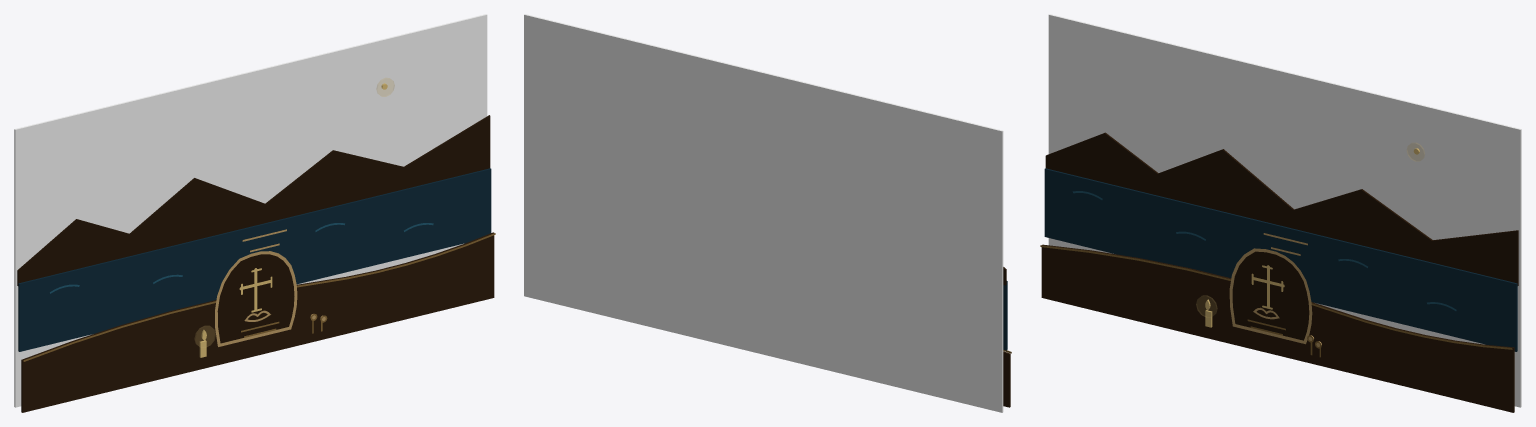
The model's file is loc-kamen-ioanna.glb.
The picture shows the model from 3 angles, left to right: view 1: azimuth 30°, elevation 25°; view 2: azimuth 150°, elevation 25°; view 3: azimuth 330°, elevation 25°; orthographic projection.
Visible parts, largest first — view 1: loc-kamen-ioanna; view 2: loc-kamen-ioanna; view 3: loc-kamen-ioanna.
Boxes of the visible parts, x1,y1,x2,y2 form: loc-kamen-ioanna: [14, 14, 495, 412]; loc-kamen-ioanna: [524, 14, 1011, 412]; loc-kamen-ioanna: [1040, 14, 1521, 412].
Bounding box in the file's own units: 5.34 × 3 × 0.401.
